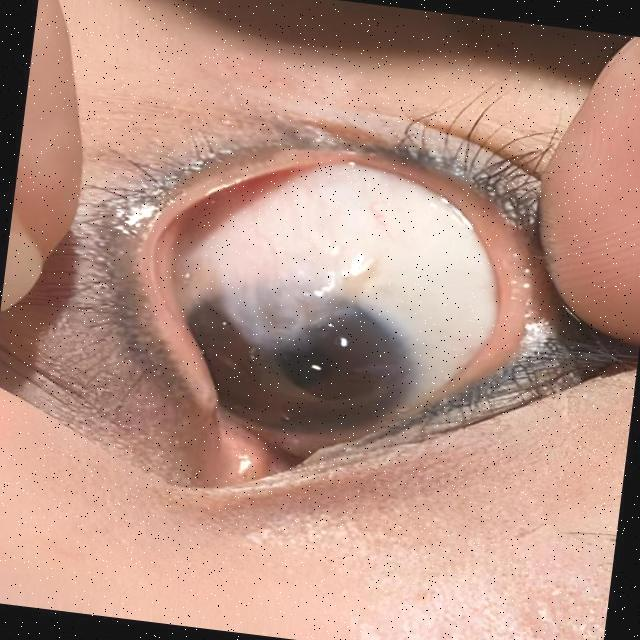Pterygium: (196, 170, 372, 356)
